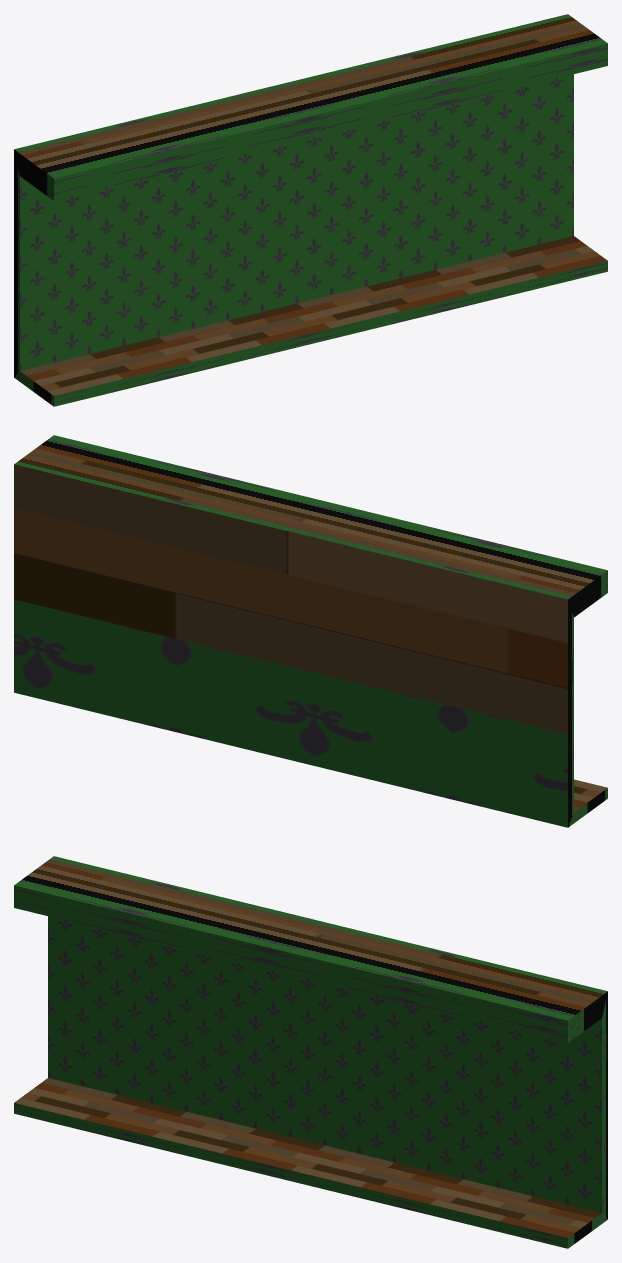
The model's file is SM_Hall_8M.fbx.
The picture shows the model from 3 angles, top to bottom: view 1: azimuth 30°, elevation 25°; view 2: azimuth 150°, elevation 25°; view 3: azimuth 330°, elevation 25°; orthographic projection.
Visible parts, largest first — view 1: SM_Hall_8M; view 2: SM_Hall_8M; view 3: SM_Hall_8M.
Part boxes in pixels (<box>): SM_Hall_8M: <box>14,14,607,406</box>; SM_Hall_8M: <box>14,435,607,827</box>; SM_Hall_8M: <box>14,856,607,1248</box>.
Size of the model in its own units: 800 by 315 by 100.
